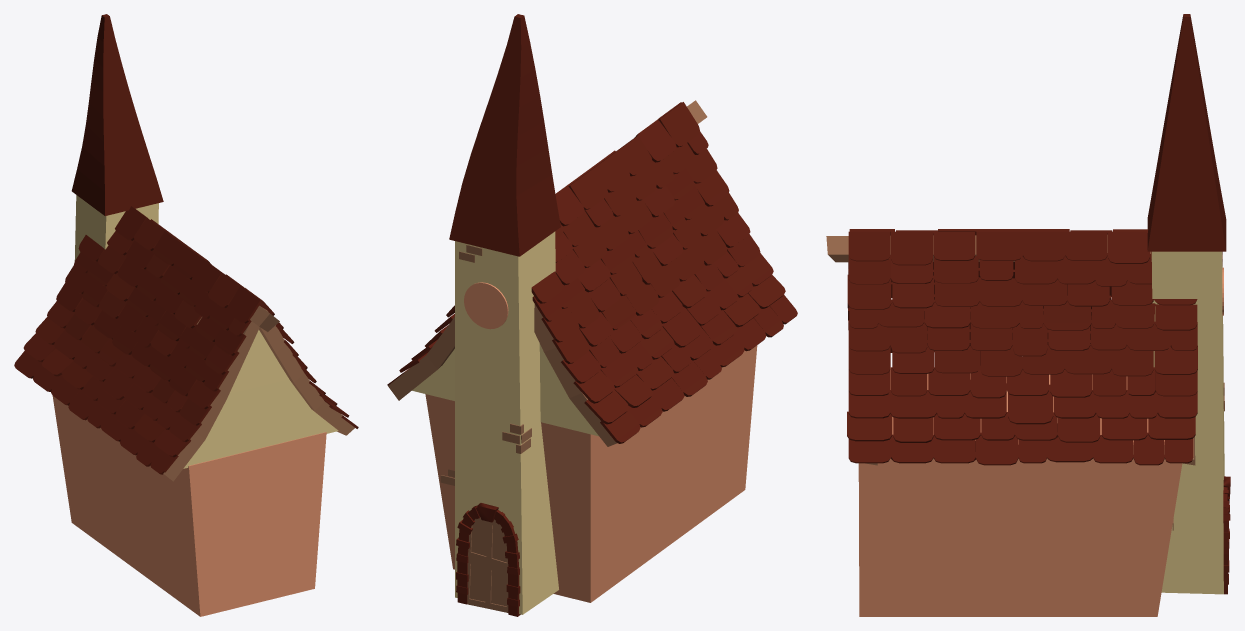
The model's file is kirche.fbx.
The picture shows the model from 3 angles, left to right: view 1: azimuth 30°, elevation 25°; view 2: azimuth 150°, elevation 25°; view 3: azimuth 270°, elevation 25°; orthographic projection. The views are drawn at different scales.
Visible parts, largest first — view 1: Cube.283; view 2: Cube.283; view 3: Cube.283.
Part boxes in pixels (x1,y1,x2,y2): Cube.283: [14, 14, 358, 616]; Cube.283: [387, 14, 797, 616]; Cube.283: [826, 14, 1230, 616].
Bounding box in the file's own units: 60.6 × 141 × 91.46.
